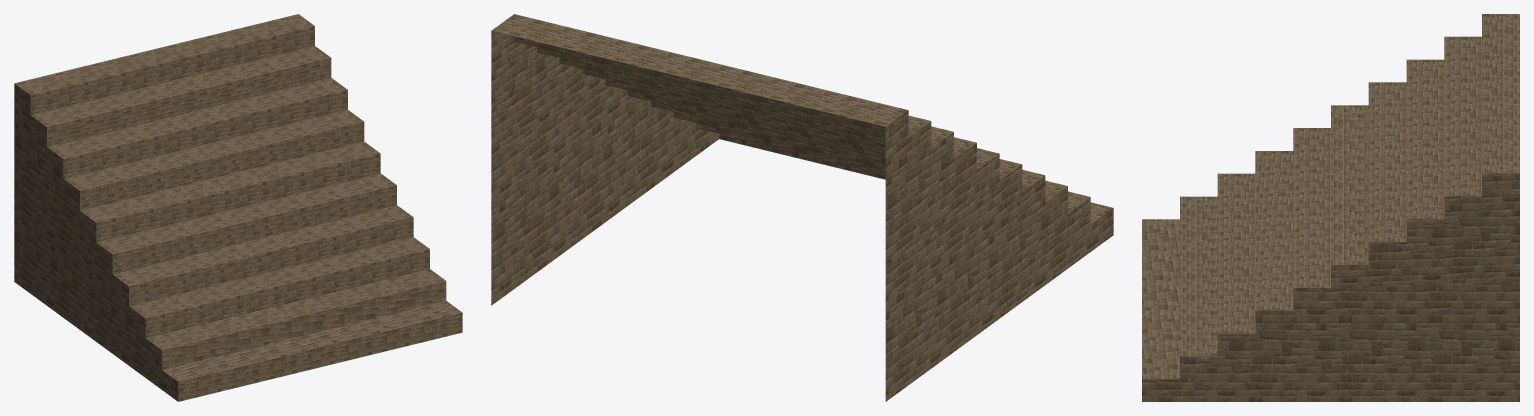
The model's file is Stair.fbx.
3 views of the same model, side by side, from view 1: azimuth 30°, elevation 25°; view 2: azimuth 150°, elevation 25°; view 3: azimuth 270°, elevation 25° (orthographic). The views are drawn at different scales.
Parts seen in each view (by area): view 1: Stair; view 2: Stair; view 3: Stair.
Part boxes in pixels (x1,y1,x2,y2): Stair: (14, 14, 462, 401); Stair: (491, 14, 1113, 401); Stair: (1142, 14, 1519, 401).
Bounding box in the file's own units: 300 × 200 × 300.
